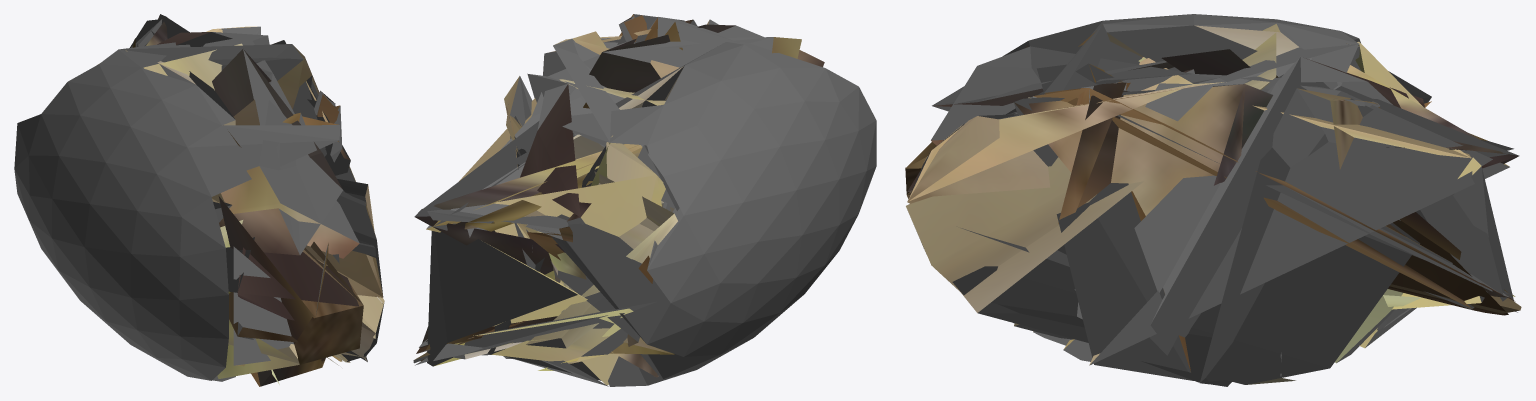
3 views of the same model, side by side, from view 1: azimuth 30°, elevation 25°; view 2: azimuth 150°, elevation 25°; view 3: azimuth 270°, elevation 25° (orthographic). The views are drawn at different scales.
Parts seen in each view (by area): view 1: link_5_visual; view 2: link_5_visual; view 3: link_5_visual.
Boxes of the visible parts, x1,y1,x2,y2 form: link_5_visual: [14, 14, 384, 386]; link_5_visual: [413, 14, 876, 386]; link_5_visual: [905, 14, 1521, 386].
Bounding box in the file's own units: 0.00175 × 0.00216 × 0.00378.
1 material, 1 textured.
